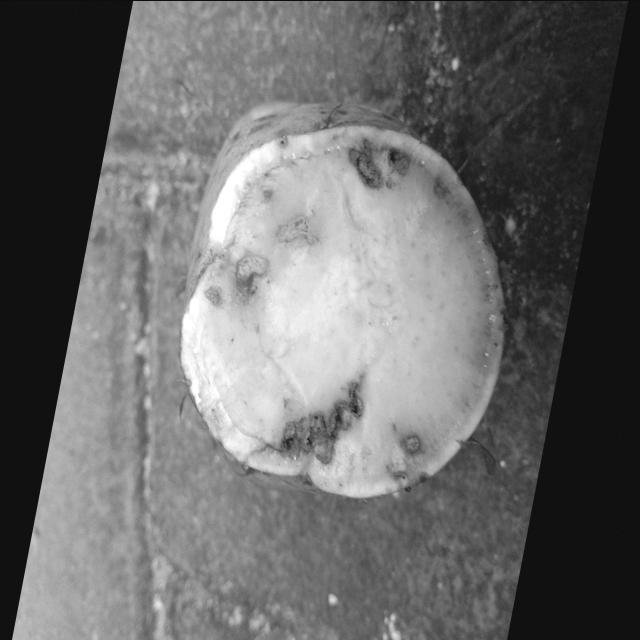Sick Sweet Potato_Tuber Rot: (180, 100, 505, 497)
